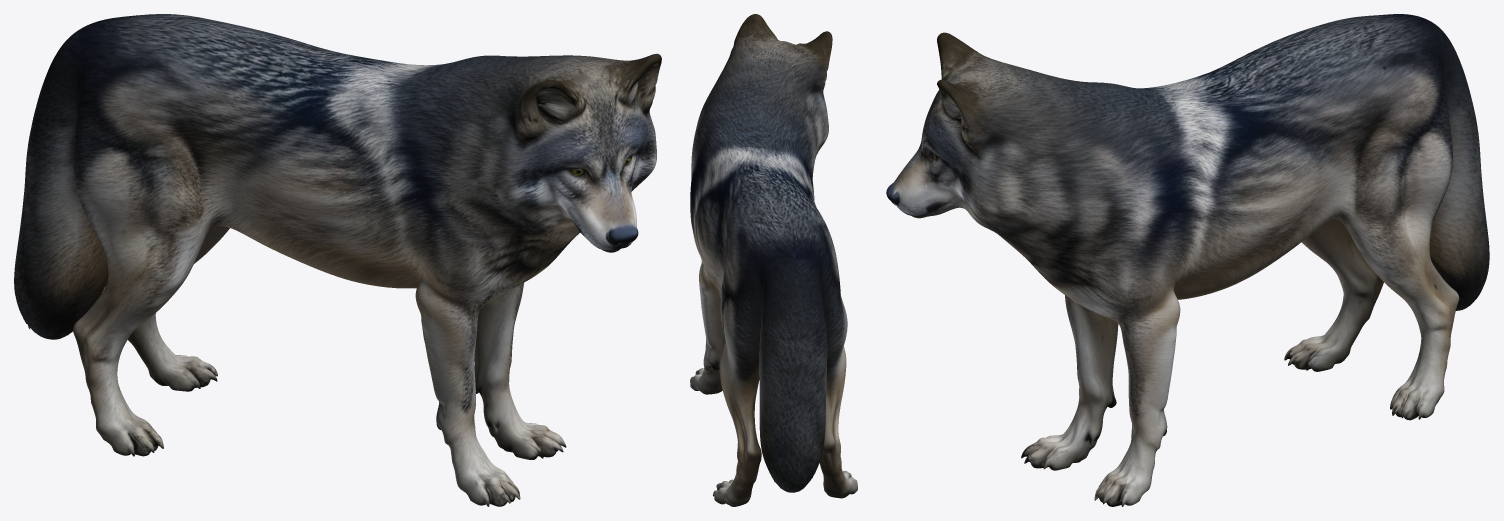
Rendered from wolf.glb.
3 views of the same model, side by side, from view 1: azimuth 30°, elevation 25°; view 2: azimuth 150°, elevation 25°; view 3: azimuth 270°, elevation 25° (orthographic). The views are drawn at different scales.
Visible parts, largest first — view 1: material; view 2: material; view 3: material.
Boxes of the visible parts, <box> form: material: <box>14,14,661,506</box>; material: <box>690,14,857,506</box>; material: <box>886,14,1489,506</box>.
Size of the model in its own units: 0.6446 by 0.7323 by 0.9299.
1 material, 1 textured.
